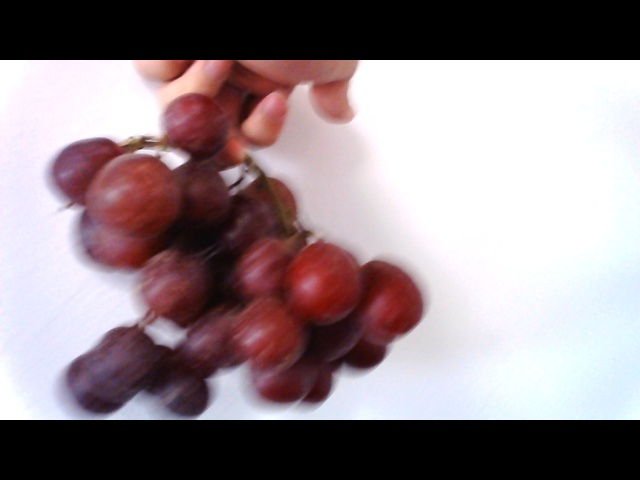grape: (41, 115, 426, 408)
